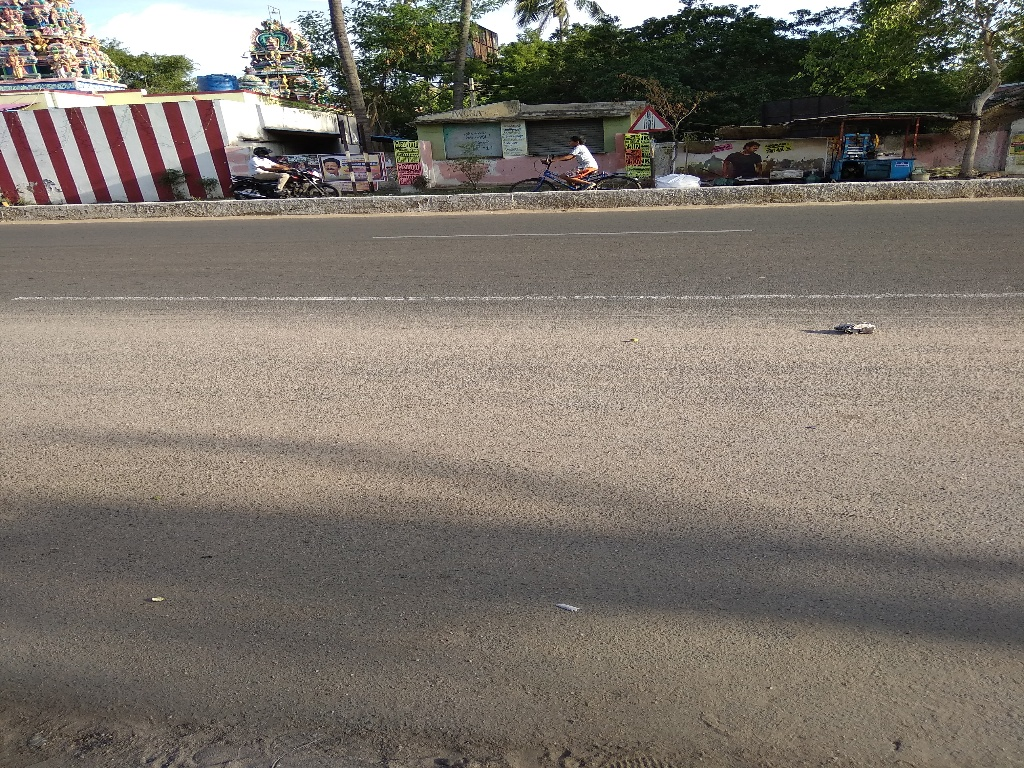biker: (222, 124, 349, 205)
helmet: (246, 140, 276, 165)
